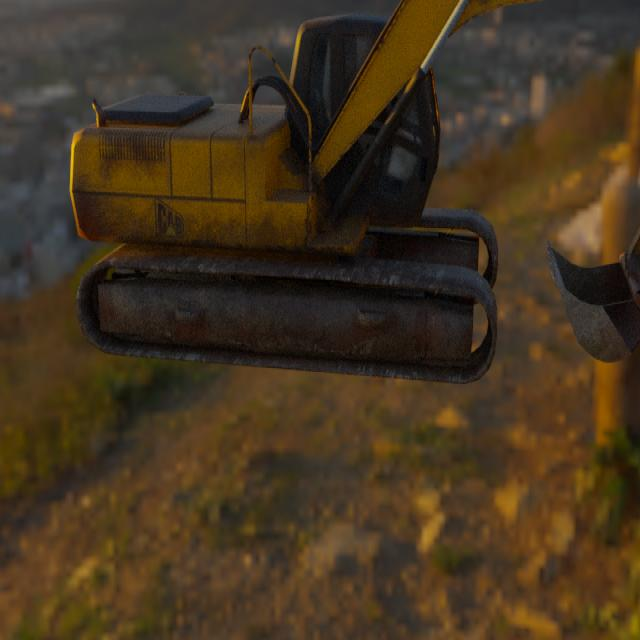excavator: (69, 0, 640, 385)
